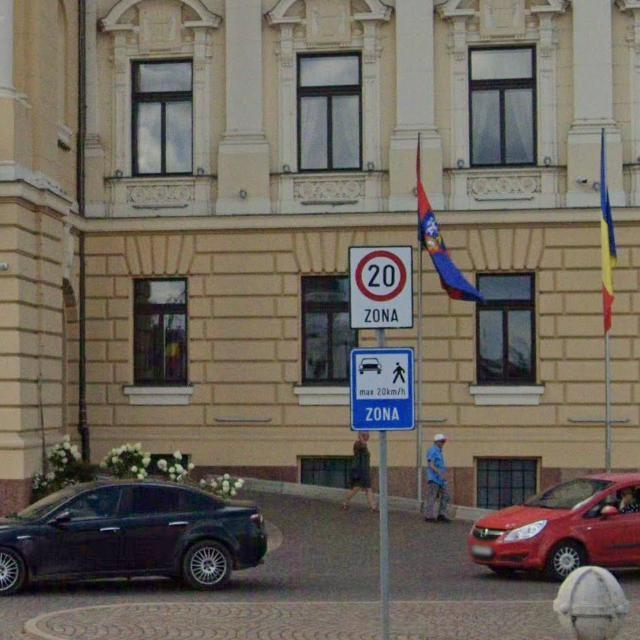forb_speed_over_20: (355, 250, 407, 303)
